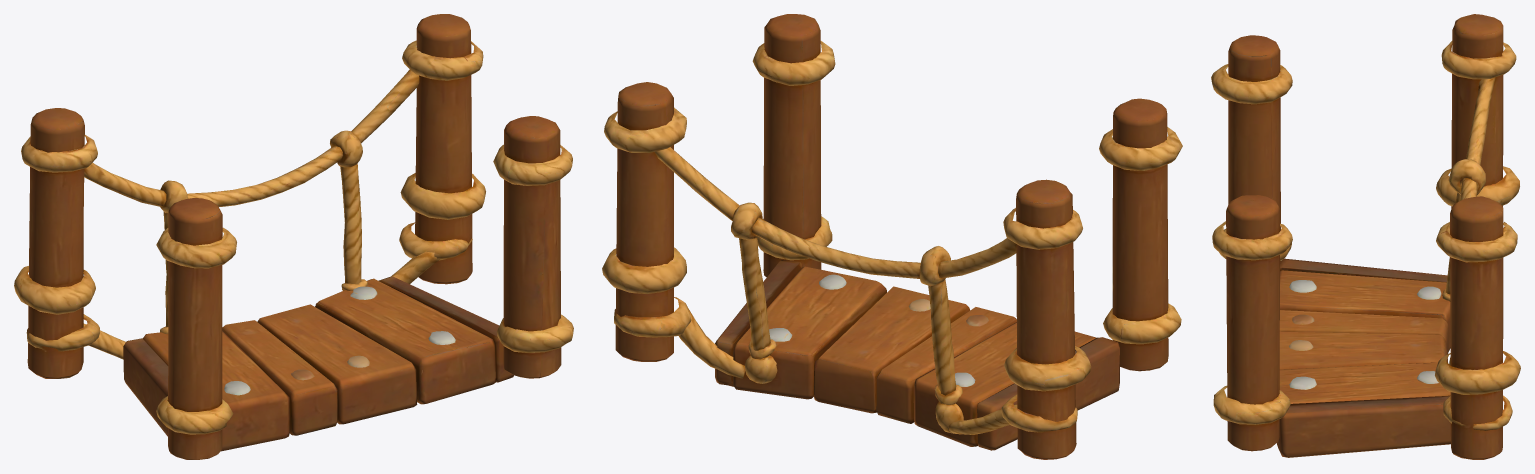
Rendered from rope_bridge.glb.
The picture shows the model from 3 angles, left to right: view 1: azimuth 30°, elevation 25°; view 2: azimuth 150°, elevation 25°; view 3: azimuth 270°, elevation 25°; orthographic projection. The views are drawn at different scales.
Size of what is drawn, in the model's own units: 1.74 by 1 by 1.05.
Materials: 1 (1 with a texture image).
